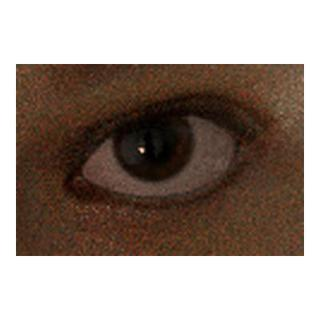pupil: (136, 123, 171, 158)
